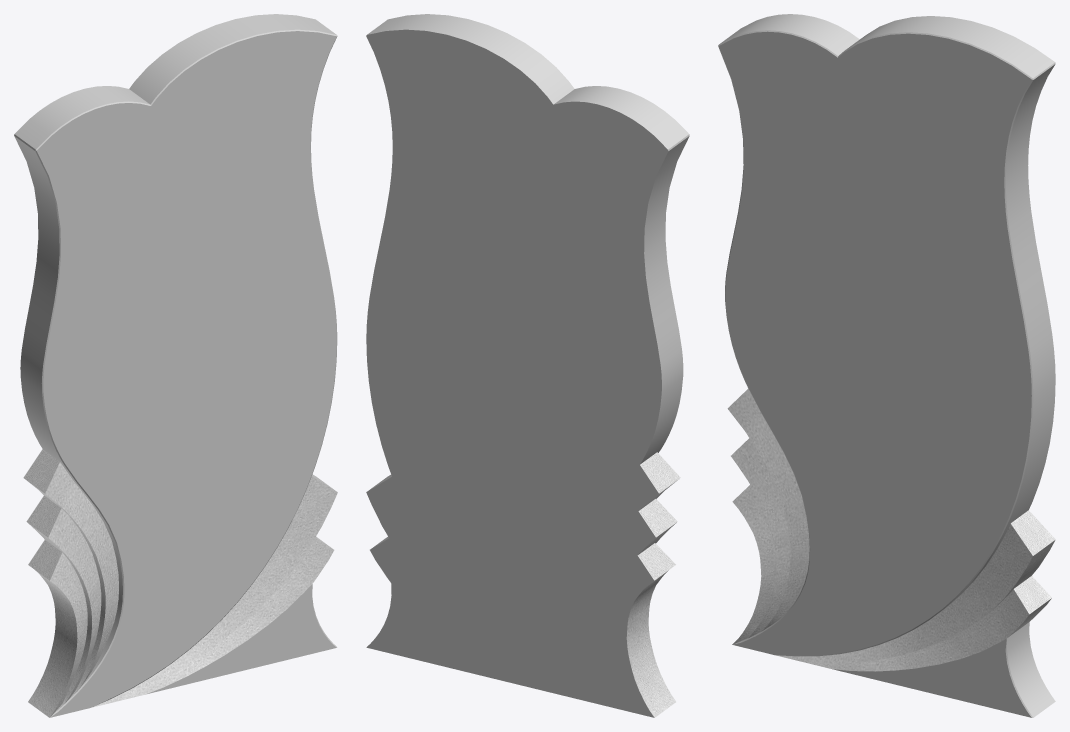
The model's file is cn5336fea057_tkf.glb.
3 views of the same model, side by side, from view 1: azimuth 30°, elevation 25°; view 2: azimuth 150°, elevation 25°; view 3: azimuth 330°, elevation 25° (orthographic). The views are drawn at different scales.
Visible parts, largest first — view 1: Pam-v-128-2, Pam-v-128-2_2_notexture; view 2: Pam-v-128-2, Pam-v-128-2_2_notexture; view 3: Pam-v-128-2, Pam-v-128-2_2_notexture.
Part boxes in pixels (x1,y1,x2,y2): Pam-v-128-2: [14, 14, 337, 717]; Pam-v-128-2_2_notexture: [23, 449, 337, 717]; Pam-v-128-2: [366, 14, 689, 717]; Pam-v-128-2_2_notexture: [367, 452, 680, 717]; Pam-v-128-2: [718, 14, 1055, 717]; Pam-v-128-2_2_notexture: [727, 389, 1055, 671].
Size of the model in its own units: 0.4 by 0.8 by 0.05.
Materials: 1 (1 with a texture image).
